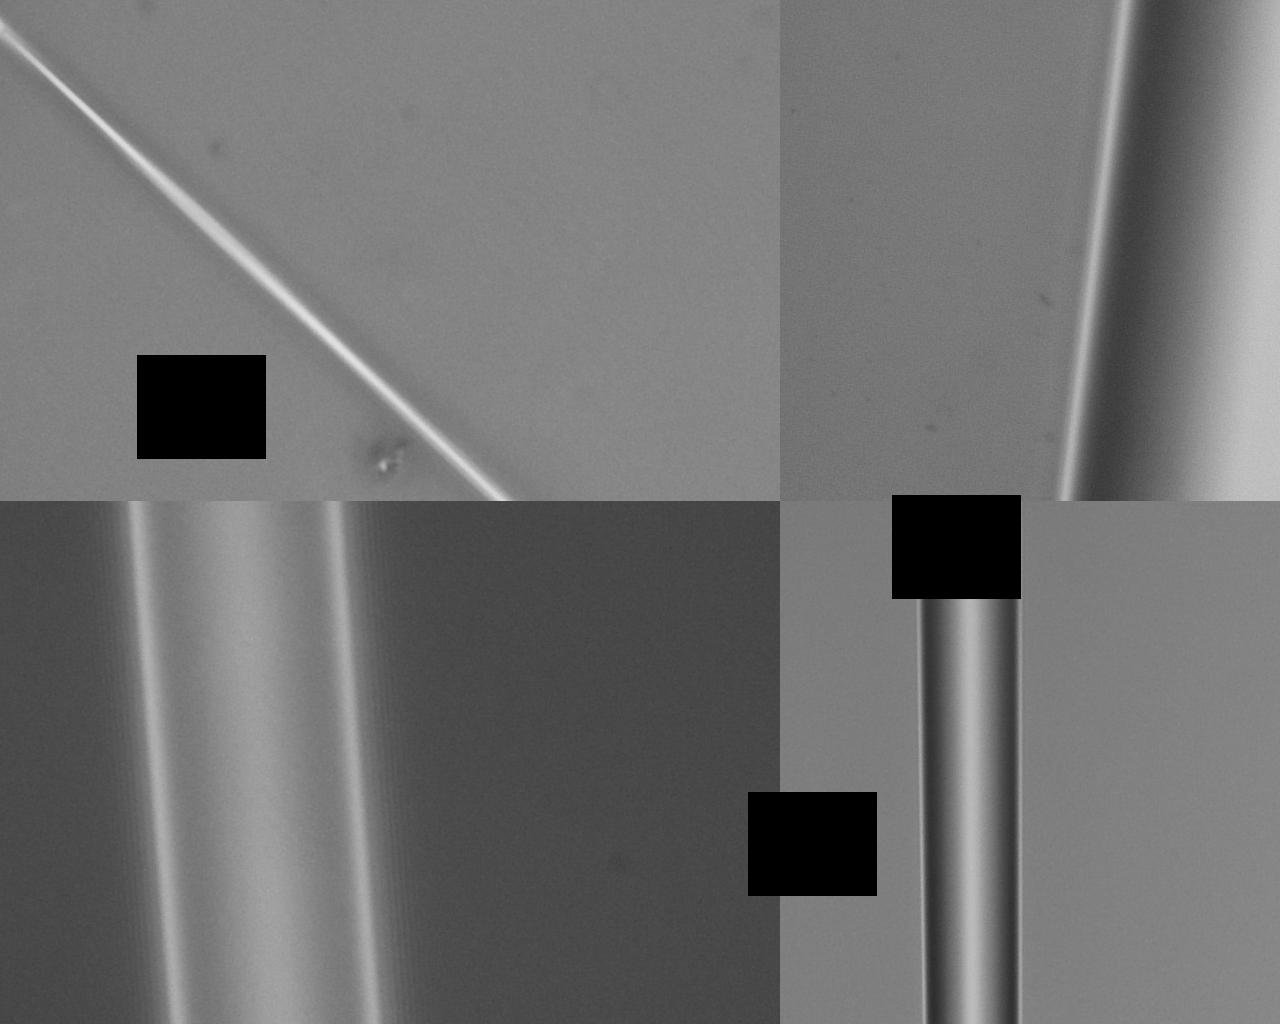fiber: (0, 17, 514, 501), (126, 501, 381, 1024), (1059, 0, 1280, 501), (917, 501, 1021, 1024)
